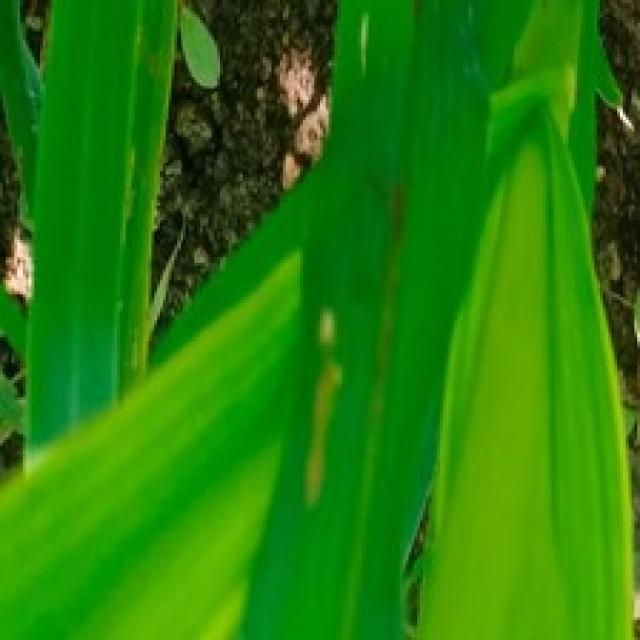Corn: (0, 0, 637, 637), (403, 69, 637, 637), (0, 246, 306, 637), (20, 0, 180, 474), (0, 0, 43, 234)
